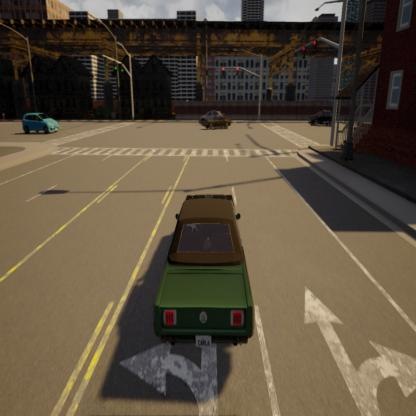Cars: (152, 181, 258, 357), (22, 108, 64, 140), (307, 105, 339, 128), (197, 107, 226, 126), (206, 116, 236, 134)
